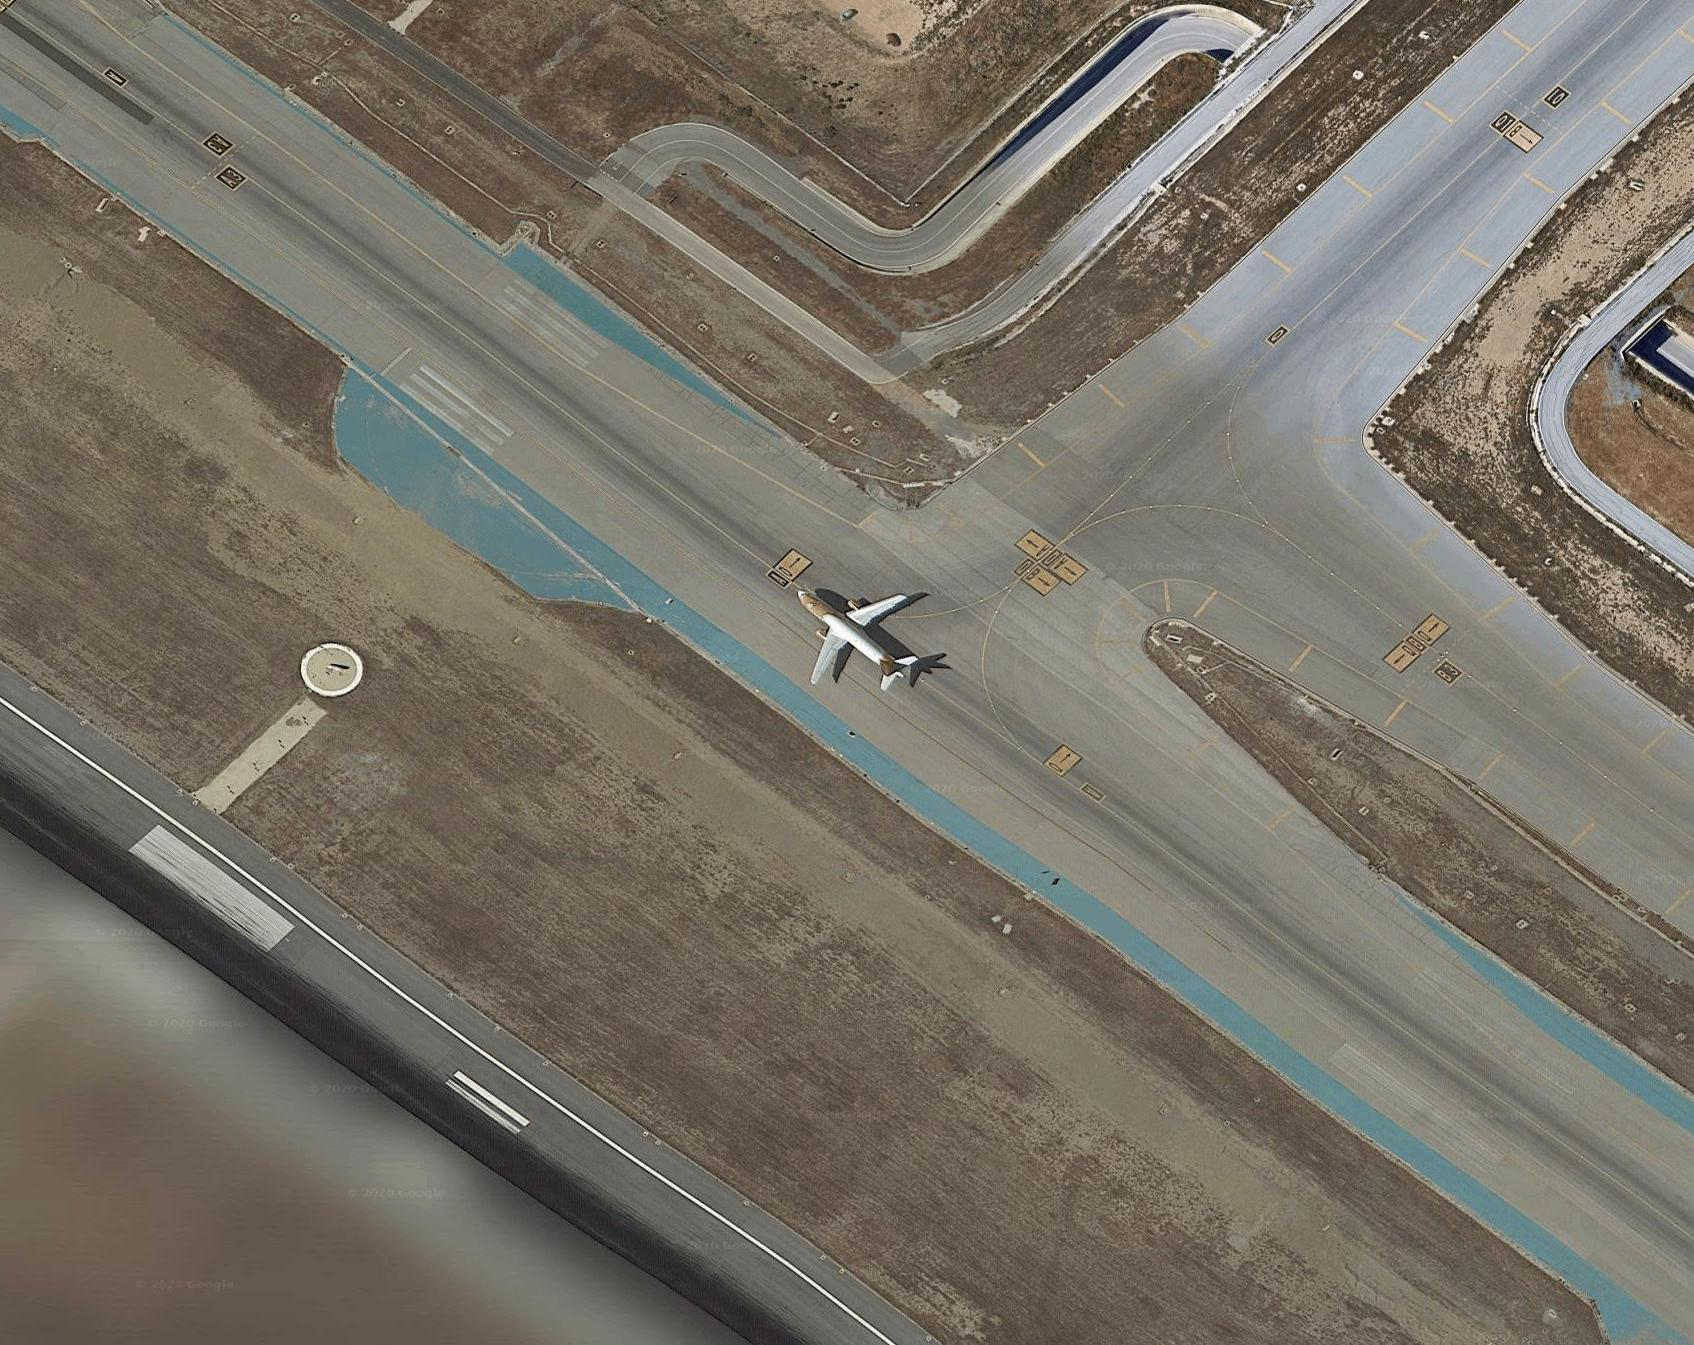plane: (764, 558, 950, 706)
